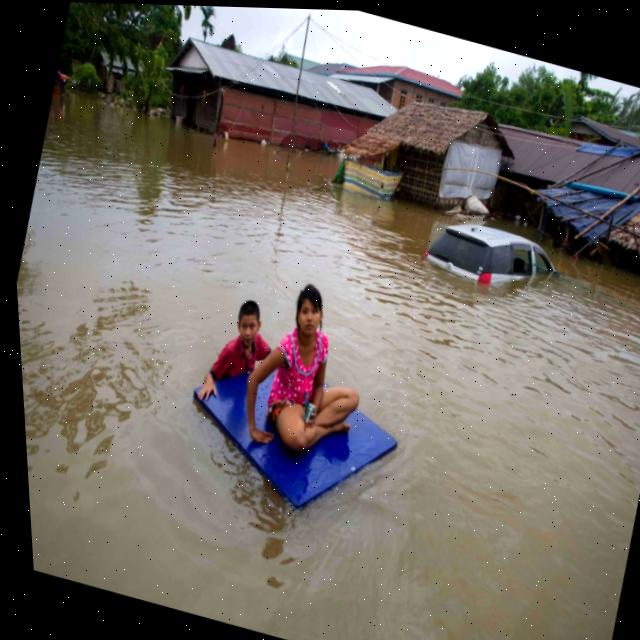civilian: (223, 266, 394, 482), (181, 278, 295, 430)
